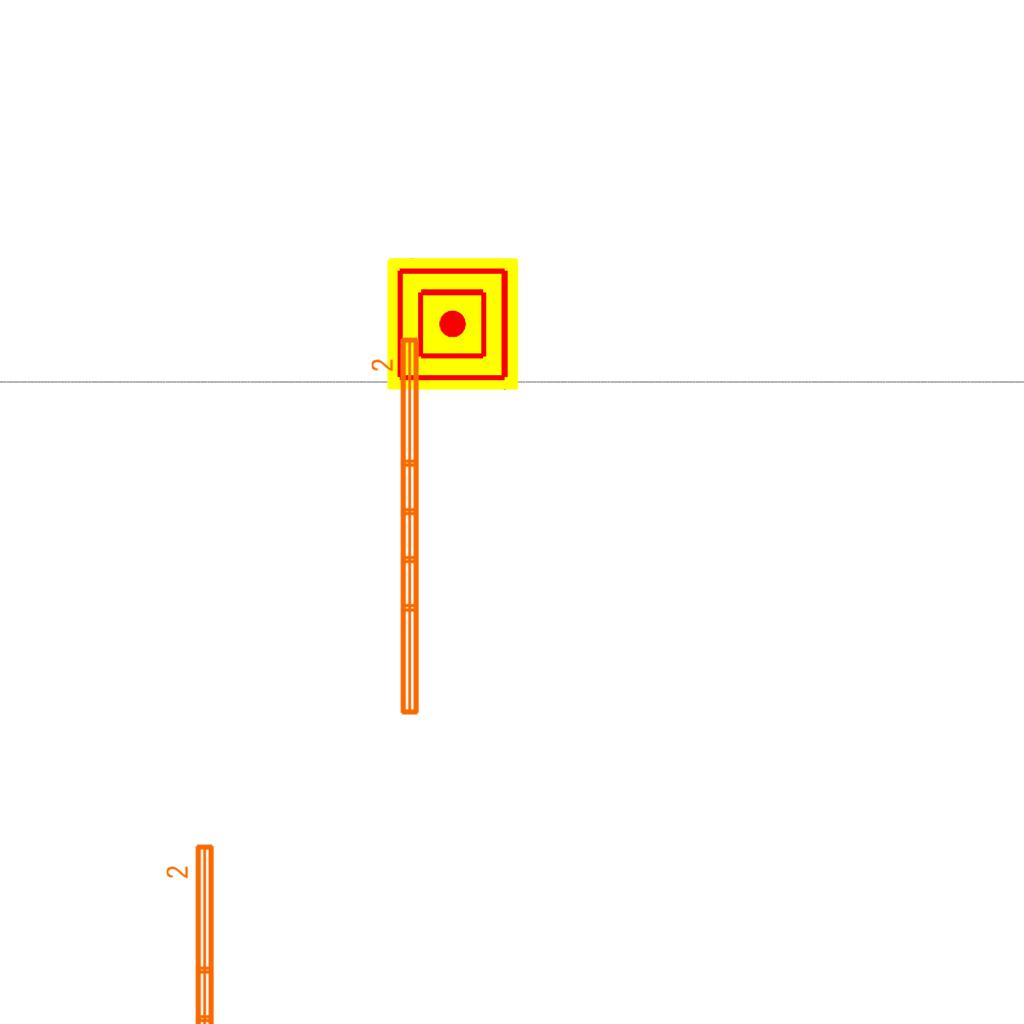Ambulanz_Pendelleuchte_LED: (369, 333, 425, 720), (164, 840, 220, 1024)
NAM-Nichtautomatischer_Melder: (387, 258, 519, 390)
